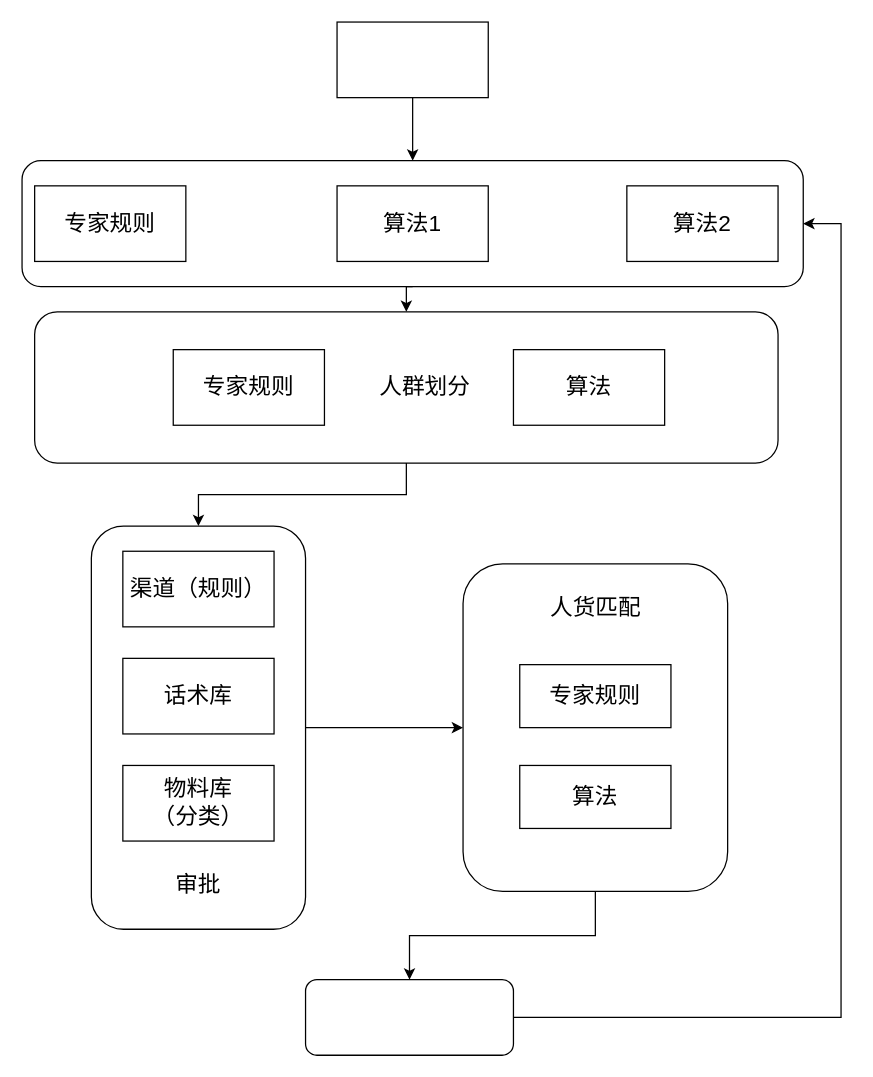
Image size: 873x1077. Some labels were removed from this diagram. Here are the shapes that lost their labels. From the top down, the centre of each, then its label:
the point at 412,59: 候选池
the point at 408,1016: 活动路径结果记录
